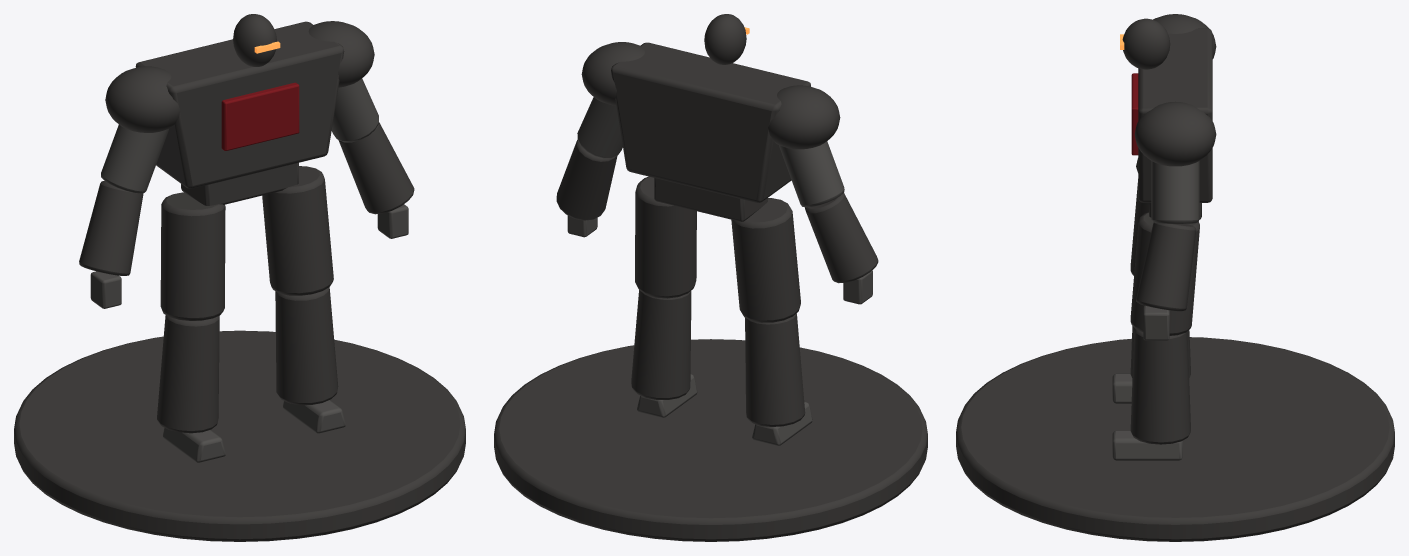
File: covenant_frame_titan.glb
3 views of the same model, side by side, from view 1: azimuth 30°, elevation 25°; view 2: azimuth 150°, elevation 25°; view 3: azimuth 270°, elevation 25° (orthographic). The views are drawn at different scales.
Visible parts, largest first — view 1: standin_base, standin_torso, standin_thigh_R, standin_thigh_L, standin_shin_R, standin_shin_L, standin_forearm_R, tp, standin_forearm_L, standin_pauldron_R, standin_arm_R, standin_pelvis (+7 smaller); view 2: standin_base, standin_torso, standin_thigh_R, standin_thigh_L, standin_shin_R, standin_shin_L, standin_forearm_R, standin_pauldron_R, standin_forearm_L, standin_arm_R, standin_pelvis, standin_pauldron_L (+5 smaller); view 3: standin_base, standin_shin_L, standin_torso, standin_pauldron_L, standin_forearm_L, standin_arm_L, standin_thigh_L, standin_helm, standin_foot_L, standin_hand_L, standin_pauldron_R, standin_foot_R (+1 smaller).
Boxes of the visible parts, bbox=[...] form: standin_base: bbox=[14, 330, 465, 541]; standin_torso: bbox=[135, 21, 344, 188]; standin_thigh_R: bbox=[160, 192, 225, 320]; standin_thigh_L: bbox=[262, 166, 333, 295]; standin_shin_R: bbox=[157, 315, 219, 433]; standin_shin_L: bbox=[275, 287, 338, 405]; standin_forearm_R: bbox=[79, 181, 143, 275]; tp: bbox=[221, 82, 299, 150]; standin_forearm_L: bbox=[338, 122, 414, 214]; standin_pauldron_R: bbox=[105, 66, 180, 132]; standin_arm_R: bbox=[101, 124, 168, 193]; standin_pelvis: bbox=[181, 162, 298, 205]; standin_base: bbox=[494, 339, 927, 541]; standin_torso: bbox=[611, 42, 810, 202]; standin_thigh_R: bbox=[731, 198, 800, 322]; standin_thigh_L: bbox=[635, 176, 696, 298]; standin_shin_R: bbox=[745, 313, 805, 426]; standin_shin_L: bbox=[631, 290, 691, 399]; standin_forearm_R: bbox=[805, 193, 878, 283]; standin_pauldron_R: bbox=[768, 85, 840, 149]; standin_forearm_L: bbox=[556, 140, 617, 220]; standin_arm_R: bbox=[779, 141, 844, 207]; standin_pelvis: bbox=[654, 178, 767, 221]; standin_pauldron_L: bbox=[581, 42, 644, 105]; standin_base: bbox=[956, 337, 1394, 541]; standin_shin_L: bbox=[1130, 328, 1190, 444]; standin_torso: bbox=[1138, 28, 1212, 202]; standin_pauldron_L: bbox=[1134, 101, 1216, 166]; standin_forearm_L: bbox=[1136, 222, 1196, 311]; standin_arm_L: bbox=[1151, 161, 1199, 223]; standin_thigh_L: bbox=[1130, 212, 1199, 335]; standin_helm: bbox=[1122, 18, 1170, 69]; standin_foot_L: bbox=[1112, 430, 1182, 460]; standin_hand_L: bbox=[1143, 305, 1169, 340]; standin_pauldron_R: bbox=[1153, 14, 1216, 58]; standin_foot_R: bbox=[1112, 373, 1132, 403].
Bounding box in the file's own units: 50 × 54.19 × 50.
